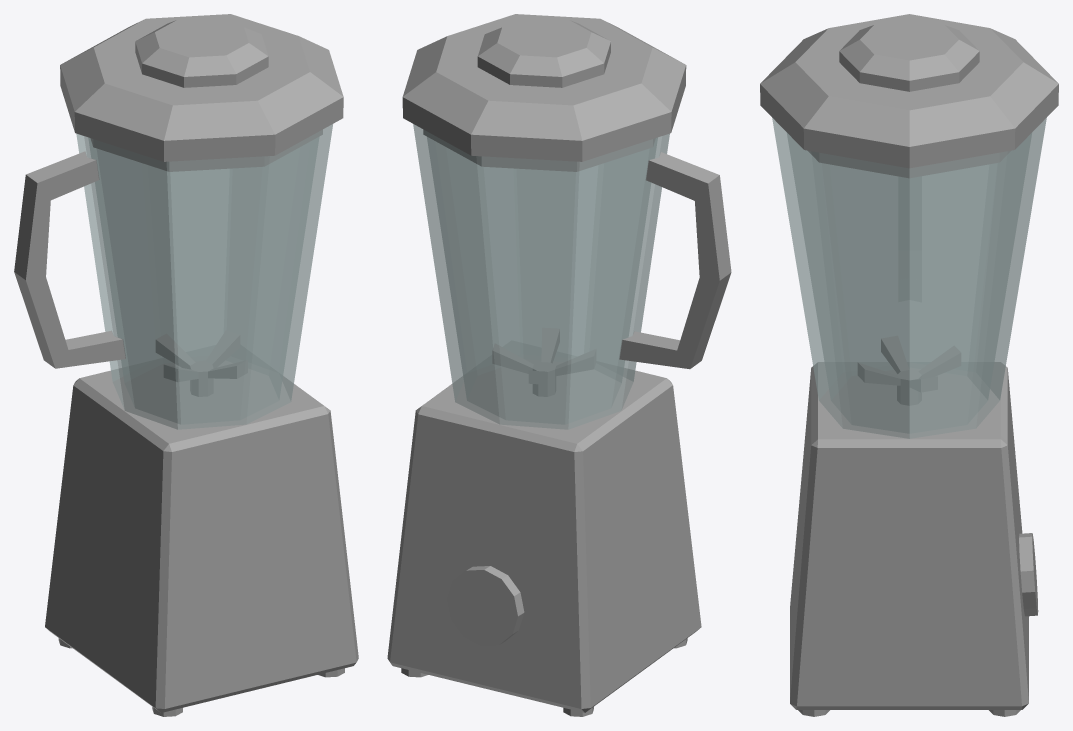
The model's file is Blender.fbx.
3 views of the same model, side by side, from view 1: azimuth 30°, elevation 25°; view 2: azimuth 150°, elevation 25°; view 3: azimuth 270°, elevation 25° (orthographic).
Visible parts, largest first — view 1: Blender; view 2: Blender; view 3: Blender.
Boxes of the visible parts, box(x1,y1,x2,y2) form: Blender: box(14, 14, 358, 716); Blender: box(387, 14, 731, 716); Blender: box(760, 14, 1058, 716).
Size of the model in its own units: 26.07 by 49.95 by 21.47.
